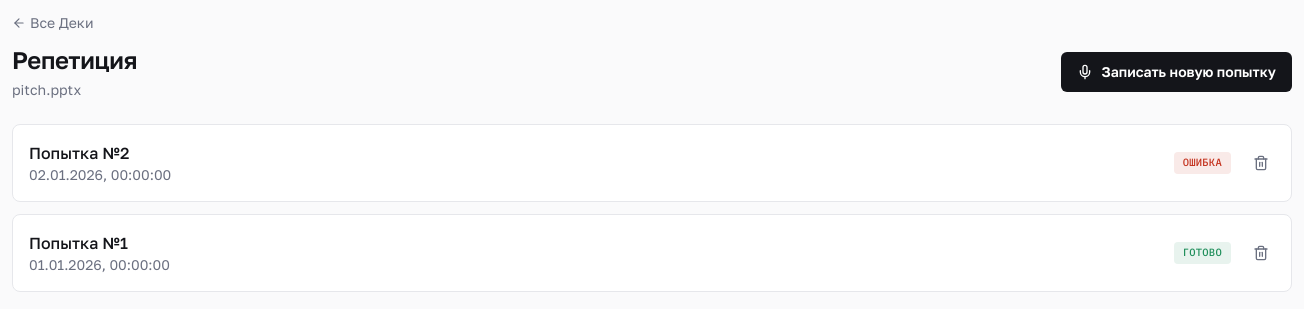
RehearsalAttemptsPage › requires confirmation before deleting an attempt
This screenshot has width=1304, height=309.
Expected: the text "Попытка №1" is shown, [29,233,128,253]
Click the button named "Удалить попытку" next to "Ошибка".
click(1261, 163)  # box [1247,149,1275,177]
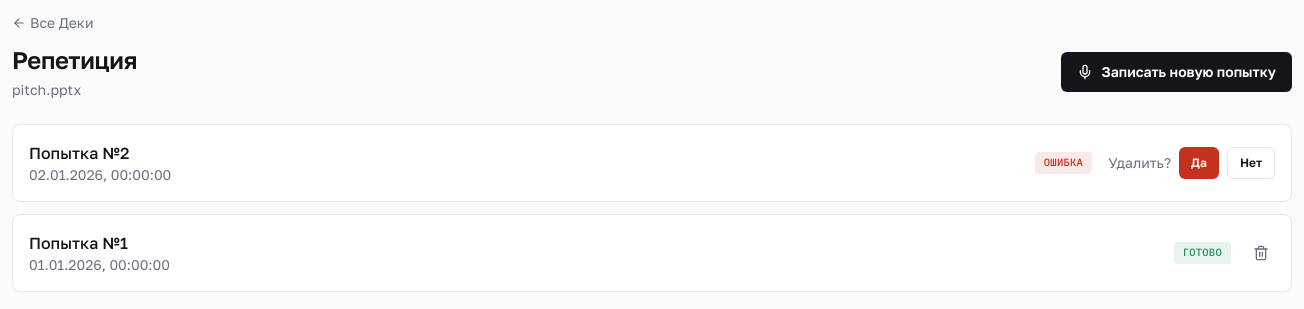
Expected: the text "Попытка №2" is shown, [29,143,129,163]
Expected: the text "Удалить?" is shown, [1108,153,1171,173]
